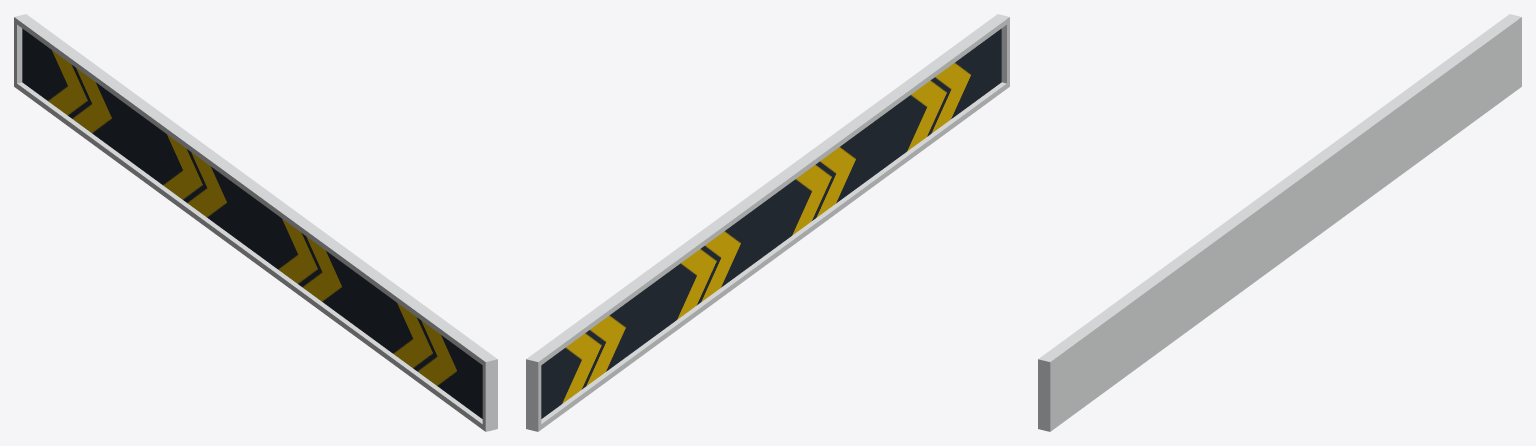
Rendered from M_dengxiang01.FBX.
3 views of the same model, side by side, from view 1: azimuth 30°, elevation 25°; view 2: azimuth 150°, elevation 25°; view 3: azimuth 330°, elevation 25° (orthographic).
Parts seen in each view (by area): view 1: M_dengxiang01_02, M_dengxiang01_01; view 2: M_dengxiang01_02, M_dengxiang01_01; view 3: M_dengxiang01_01.
Boxes of the visible parts, box(x1,y1,x2,y2) form: M_dengxiang01_02: box(22, 28, 482, 418); M_dengxiang01_01: box(14, 14, 497, 431); M_dengxiang01_02: box(541, 28, 1001, 418); M_dengxiang01_01: box(526, 14, 1009, 431); M_dengxiang01_01: box(1038, 14, 1521, 431).
Bounding box in the file's own units: 0.2365 × 1.3 × 15.89.
